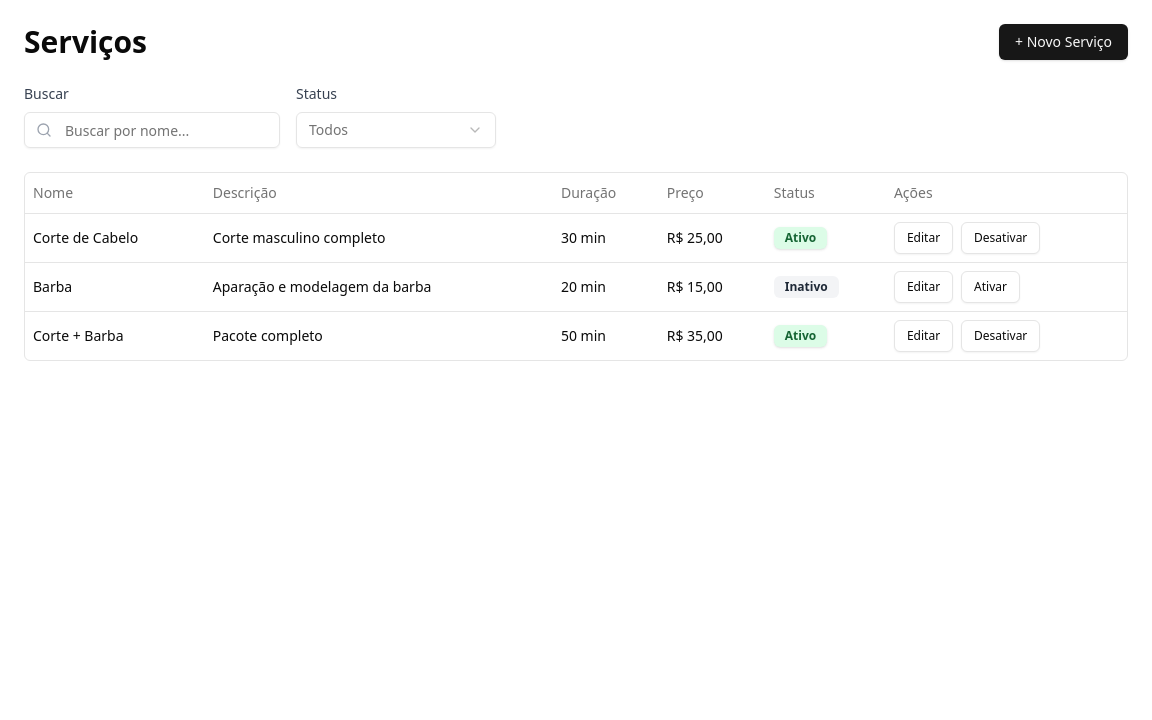
Test case: ServicesListPage Integration › opens edit service modal with pre-filled data
Expected: the text "Corte de Cabelo" is shown, [25,213,205,262]
Find the row containing Corte de Cabelo and click edit
Click the button "Editar" in the row of "Corte de Cabelo" at (924, 238), box [894,222,953,254]
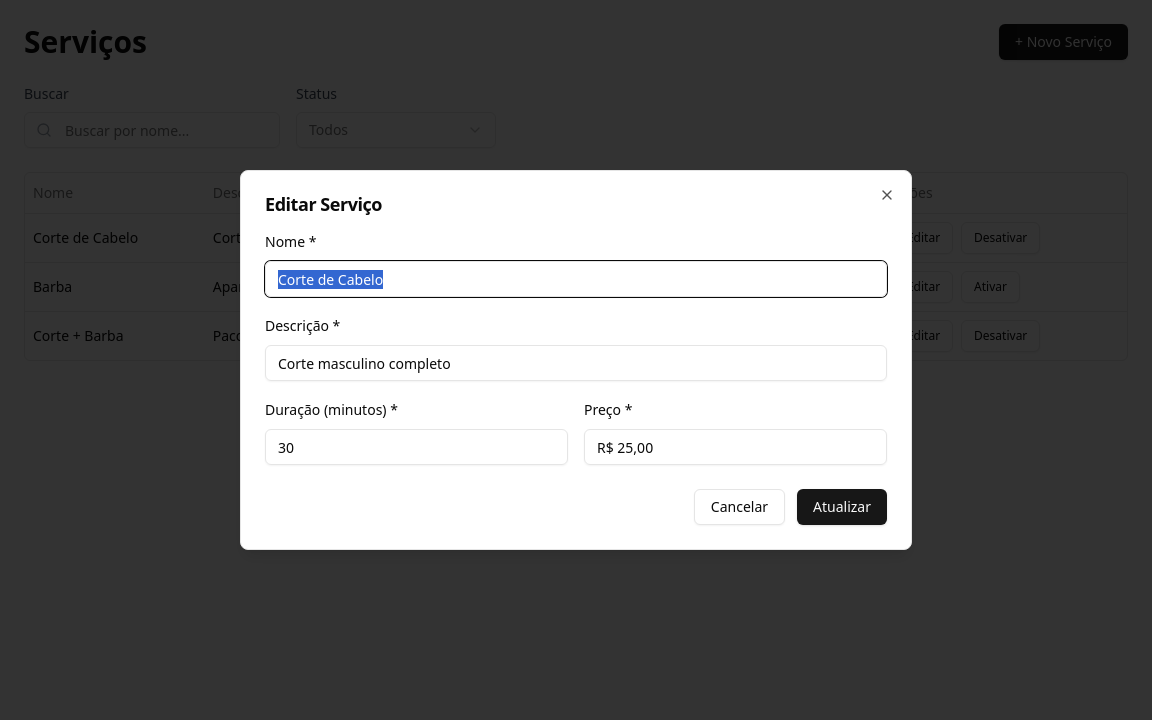
Result: the heading "Editar Serviço" is shown at [265,192,382,216]
Result: the button "Atualizar" is shown at [797,489,887,525]
